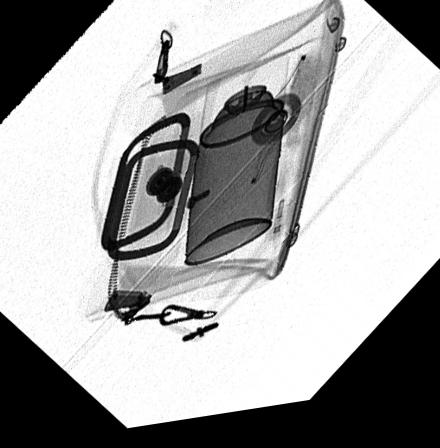Sprayer: (185, 62, 288, 272)
